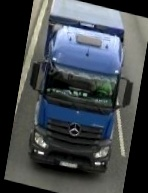truck: (11, 0, 146, 186)
